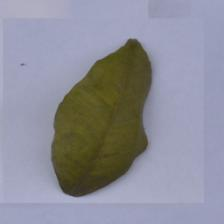greening: (48, 50, 126, 167)
